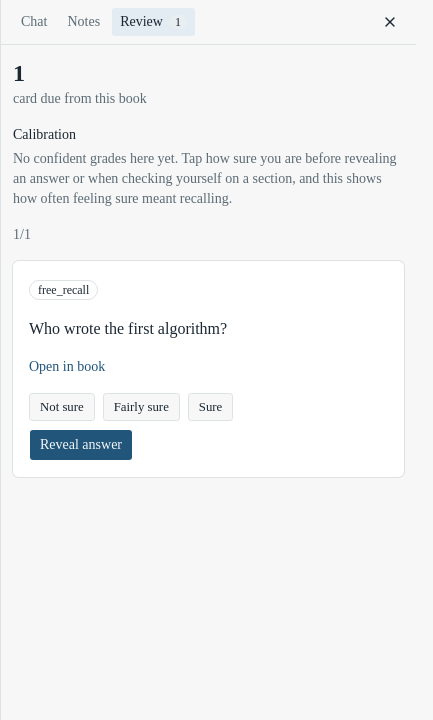
Test: the dock's Review tab › re-reads the calibration lines once a card has been graded
The width and height of the screenshot is (433, 720).
expect the text with test id "calibration-empty" is shown: met, box [13,149,404,209]
expect the text "Who wrote the first algorithm?" is shown: met, box [29,320,227,337]
Click the button "Reveal answer".
click(81, 445)  # box [29,429,133,461]
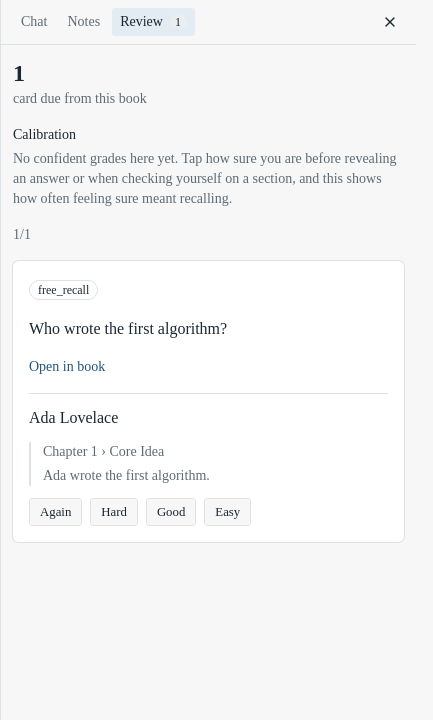
Click the button "Good".
click(171, 512)  # box [146,498,196,526]
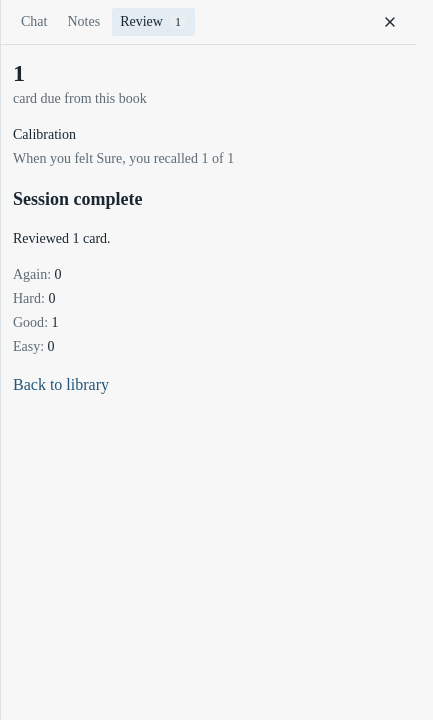
expect the list with test id "calibration-lines" reads "When you felt Sure, you recalled 1 of 1": met, box [13,151,234,166]
expect the text with test id "calibration-empty" is gone: met
